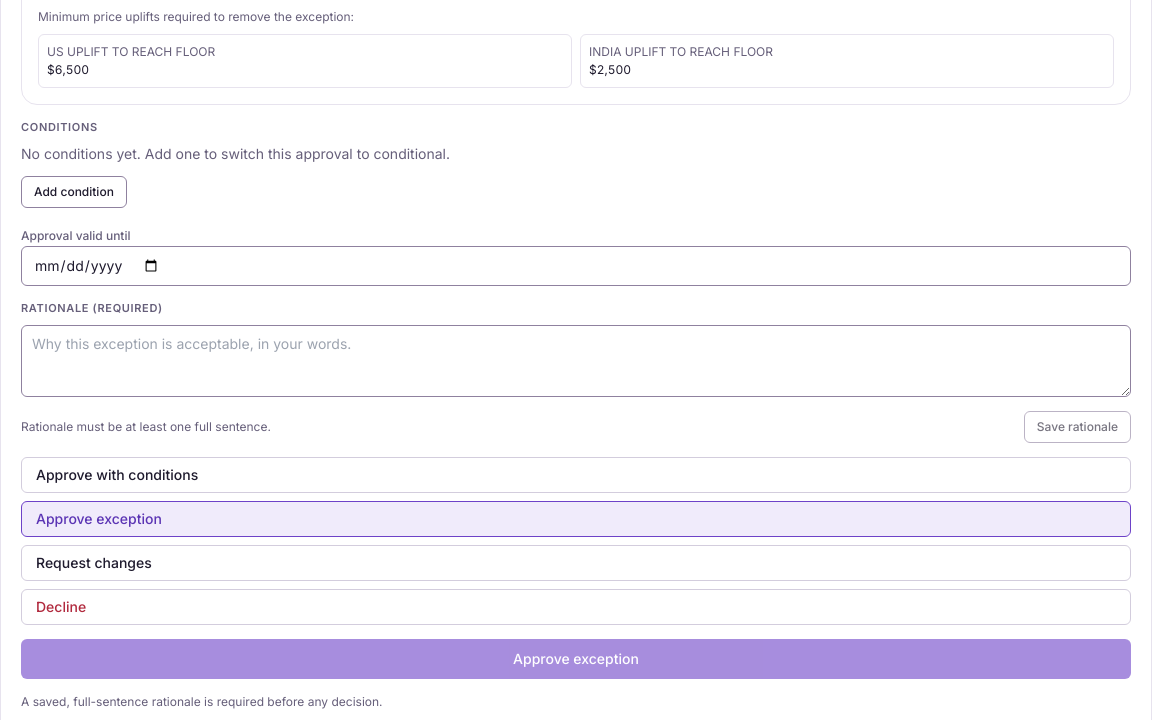
CEOExceptionDecisionPage (SOW-first) › disables approve until a full-sentence rationale is saved
(page scrolled)
Expected: the button with test id "ceo-decision-submit" is disabled, [21,639,1131,679]
In the text box with test id "ceo-rationale-input": (576, 361) [21,325,1131,397], type "short"
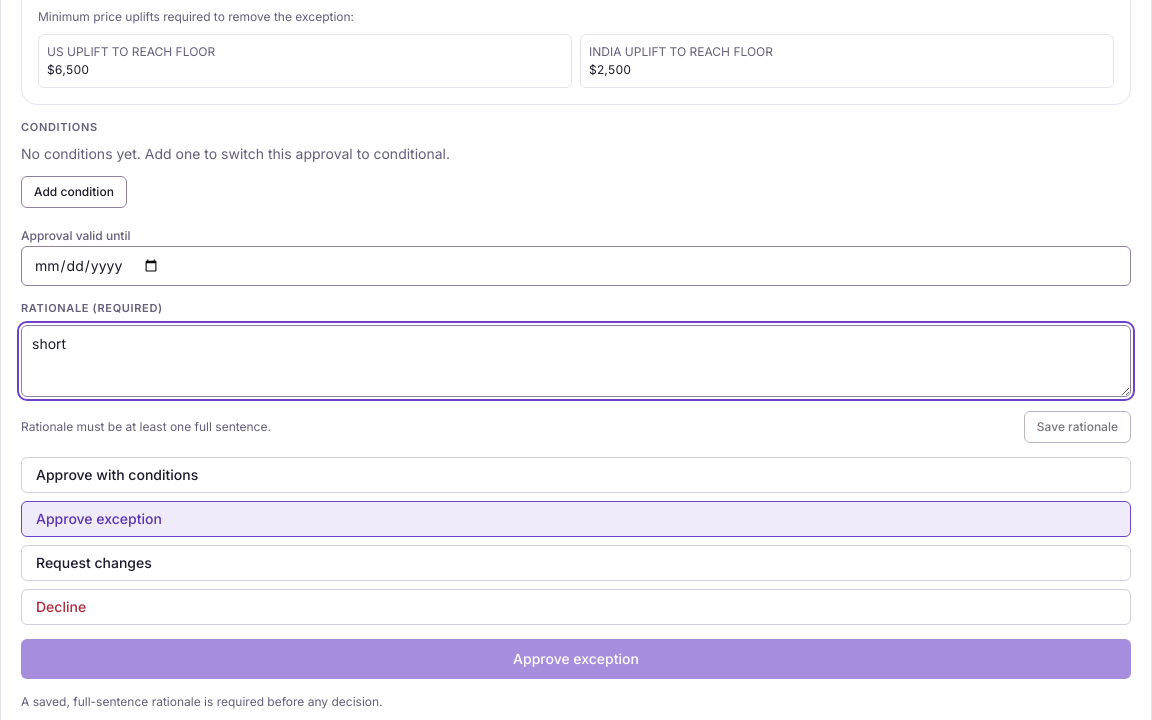
Expected: the button "Save rationale" is disabled, [1024,411,1131,443]
Expected: the button with test id "ceo-decision-submit" is disabled, [21,639,1131,679]
Replace the text in the text box with test id "ceo-rationale-input" with "This exception unlocks a $2M downstream managed services renewal.": (576, 361) [21,325,1131,397]
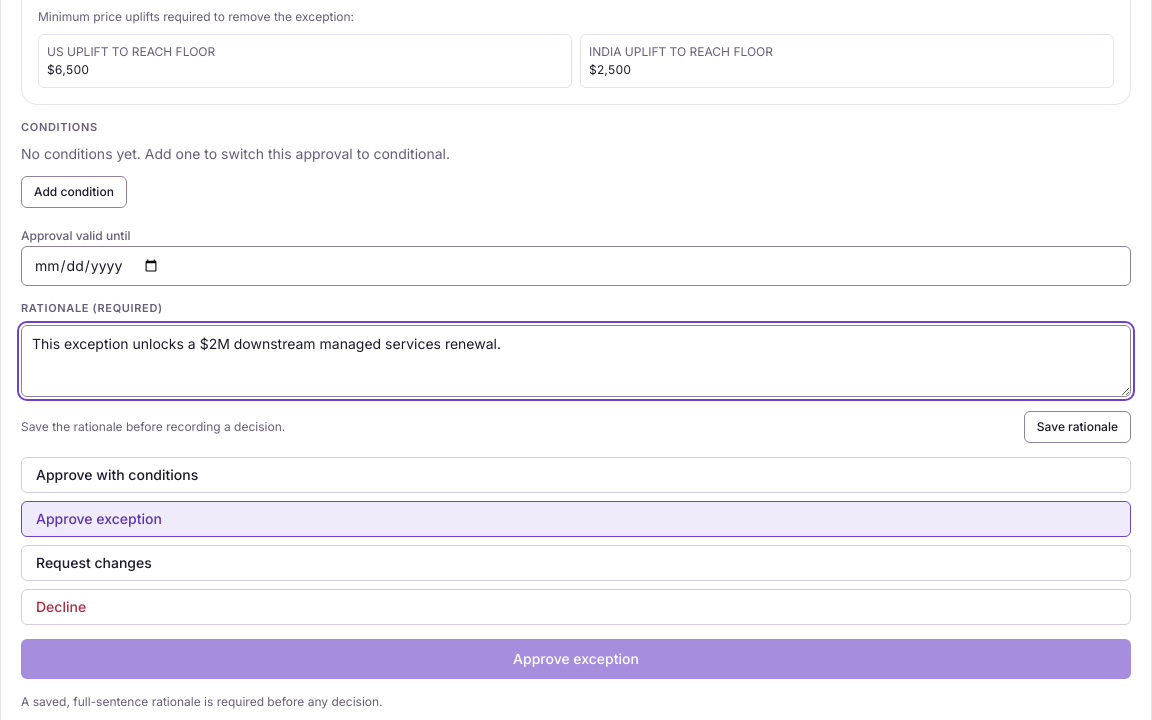
Result: the button "Save rationale" is enabled
Click the button "Save rationale": (1077, 427) [1024,411,1131,443]
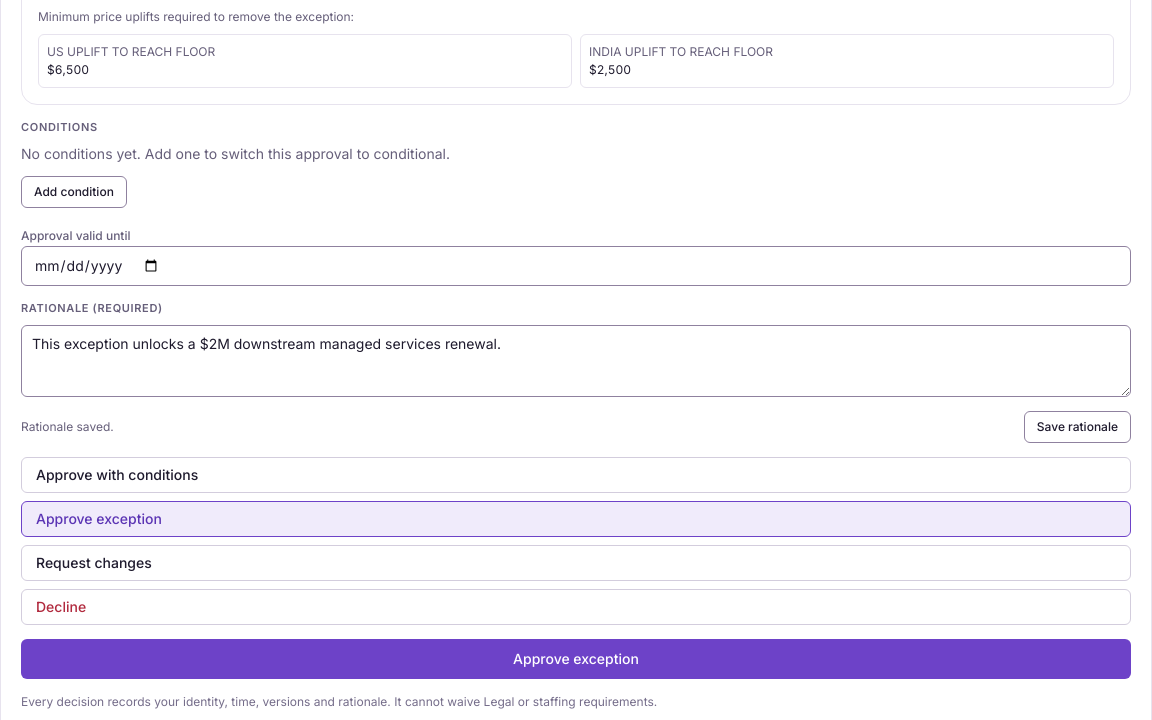
Result: the button with test id "ceo-decision-submit" is enabled at [21,639,1131,679]
